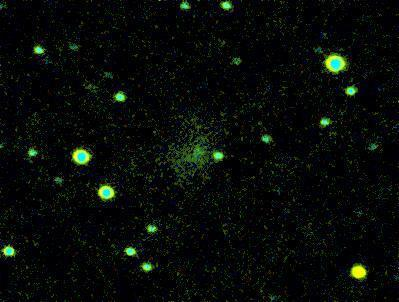star: (342, 258, 372, 288)
